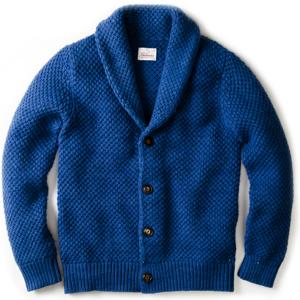S_cardigan sweater: (3, 21, 283, 294)
